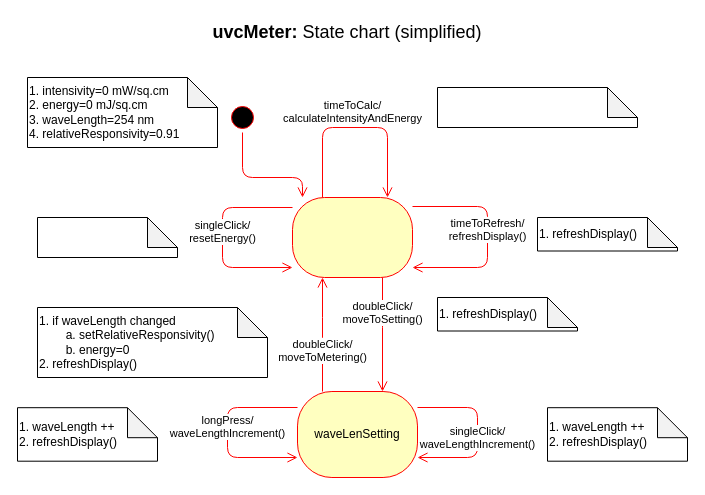
The diagram is 705 pixels wide and 495 high, and some of its shapes have lost their labels. Each missing label, with the centre of its shape:
1. energy = 0 2. refreshDisplay(): [107,237]
1. intensivity=getUvcIntensity() 2. energy+=getUvcEnergy(): [537,107]
uvcMetering: [352,237]
